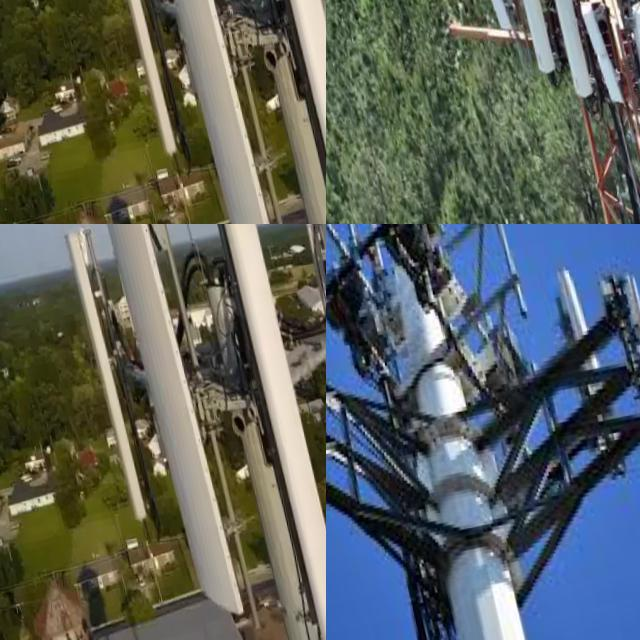GSM Antenna: (78, 224, 245, 638), (195, 224, 326, 640), (108, 0, 275, 224), (56, 224, 146, 527), (225, 0, 326, 224), (86, 0, 176, 157), (287, 224, 326, 490), (532, 0, 591, 109), (571, 0, 619, 120), (497, 0, 552, 88), (615, 9, 640, 117), (618, 0, 640, 101), (461, 0, 507, 38)
